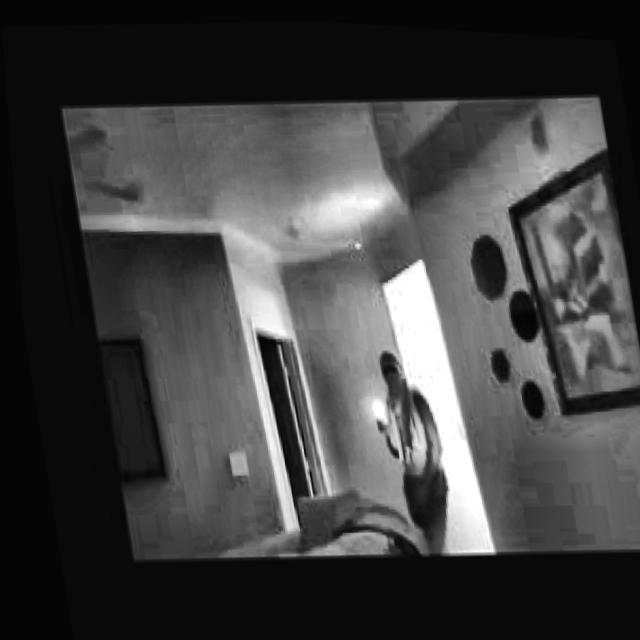burglary: (244, 304, 465, 563)
